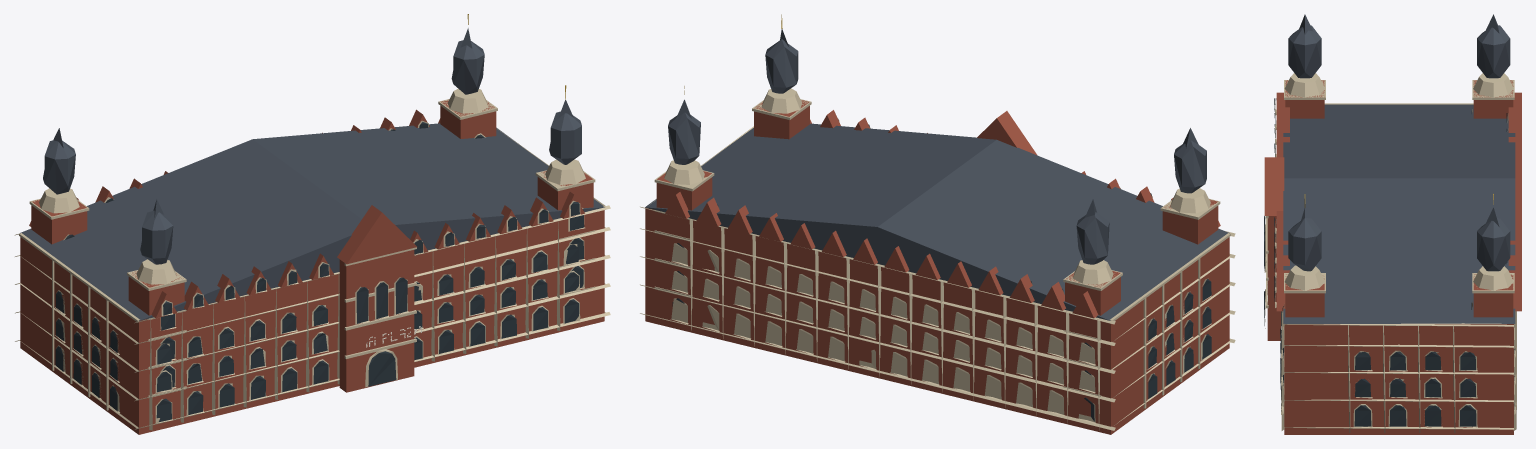
File: magna-plaza.lod1.glb
3 renders of one model, left to right at view 1: azimuth 30°, elevation 25°; view 2: azimuth 150°, elevation 25°; view 3: azimuth 270°, elevation 25°, orthographic. The views are drawn at different scales.
Parts seen in each view (by area): view 1: magna-plaza; view 2: magna-plaza; view 3: magna-plaza.
Part boxes in pixels (<box>): magna-plaza: <box>14,14,610,434</box>; magna-plaza: <box>640,14,1235,434</box>; magna-plaza: <box>1264,14,1521,434</box>.
Size of the model in its own units: 80.35 by 37.98 by 39.
